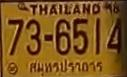1: (95, 18, 100, 54)
3: (25, 18, 40, 55)
4: (107, 17, 121, 53)
5: (72, 18, 88, 54)
6: (55, 18, 70, 54)
7: (7, 18, 23, 55)
SPK: (27, 57, 104, 76)
